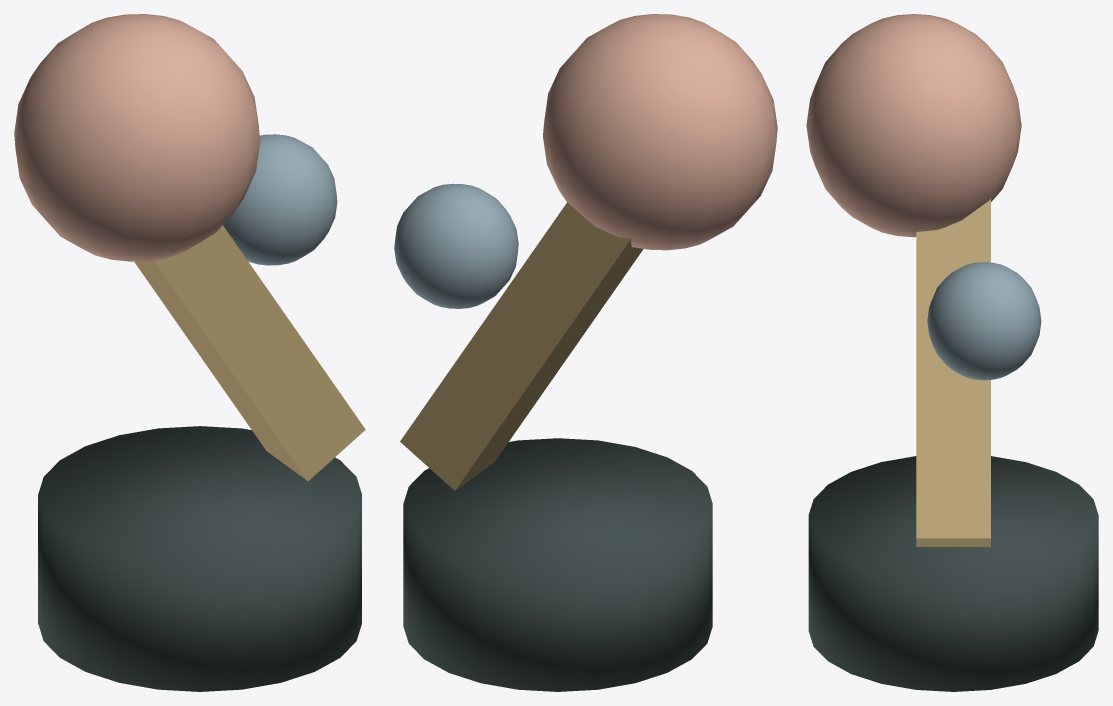
File: sculpture.balance-old.glb
3 renders of one model, left to right at view 1: azimuth 30°, elevation 25°; view 2: azimuth 150°, elevation 25°; view 3: azimuth 270°, elevation 25°, orthographic. The views are drawn at different scales.
Parts seen in each view (by area): view 1: balance foot; view 2: balance foot; view 3: balance foot.
Part boxes in pixels (x1,y1,x2,y2): balance foot: (14, 14, 365, 691); balance foot: (394, 14, 777, 691); balance foot: (806, 14, 1098, 691).
Size of the model in its own units: 0.8 by 1.43 by 0.665.
